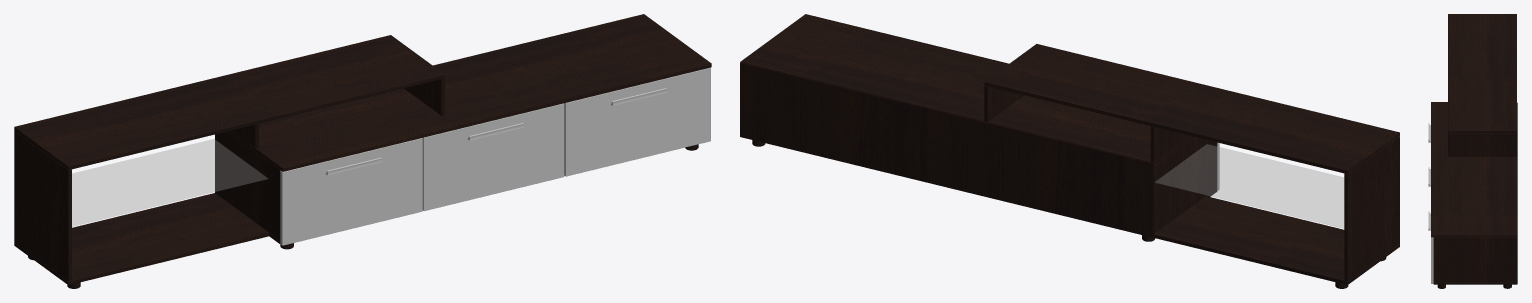
File: Furniture 1.FBX
3 renders of one model, left to right at view 1: azimuth 30°, elevation 25°; view 2: azimuth 150°, elevation 25°; view 3: azimuth 270°, elevation 25°, orthographic. The views are drawn at different scales.
Visible parts, largest first — view 1: Furniture 1; view 2: Furniture 1; view 3: Furniture 1.
Boxes of the visible parts, x1=… form: Furniture 1: x1=14, y1=14, x2=711, y2=288; Furniture 1: x1=740, y1=14, x2=1399, y2=288; Furniture 1: x1=1428, y1=14, x2=1517, y2=288.
Bounding box in the file's own units: 2682 × 524 × 518.
